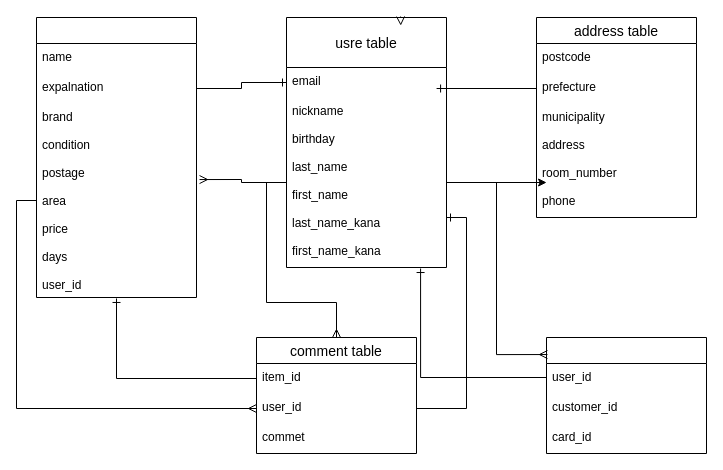
Image size: 723x470. Some labels were removed from this diagram. The box of each missing label's shape, as (x1, y1, x2, y2) in pixels:
credit table: (546, 336, 706, 454)
item table: (36, 16, 196, 298)
